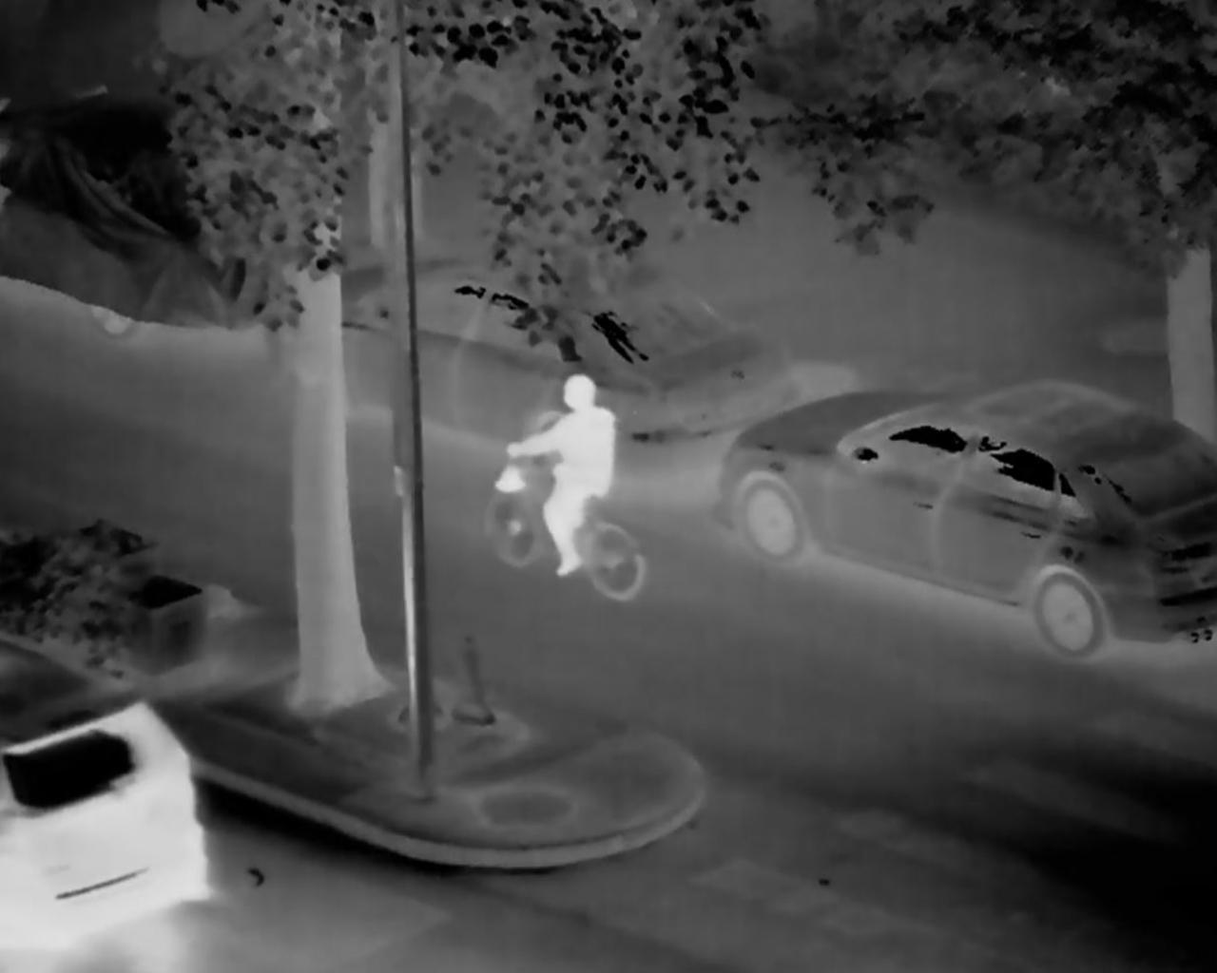person: (498, 372, 621, 591)
